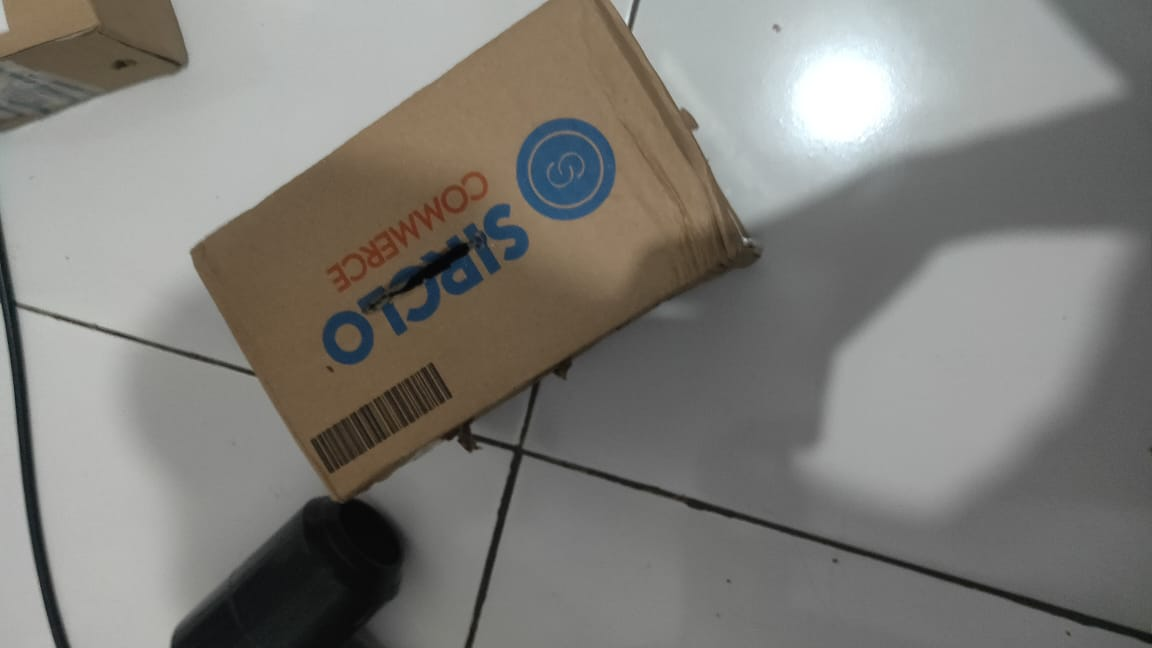damaged package: (356, 227, 501, 312)
undamaged: (190, 0, 761, 507)
